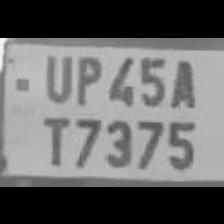3: (100, 113, 132, 169)
4: (101, 50, 135, 106)
5: (161, 115, 197, 169), (134, 50, 166, 106)
7: (67, 112, 99, 168), (130, 114, 162, 170)
A: (166, 53, 198, 109)
P: (71, 51, 103, 108)
T: (34, 110, 70, 168)
U: (38, 50, 72, 104)
